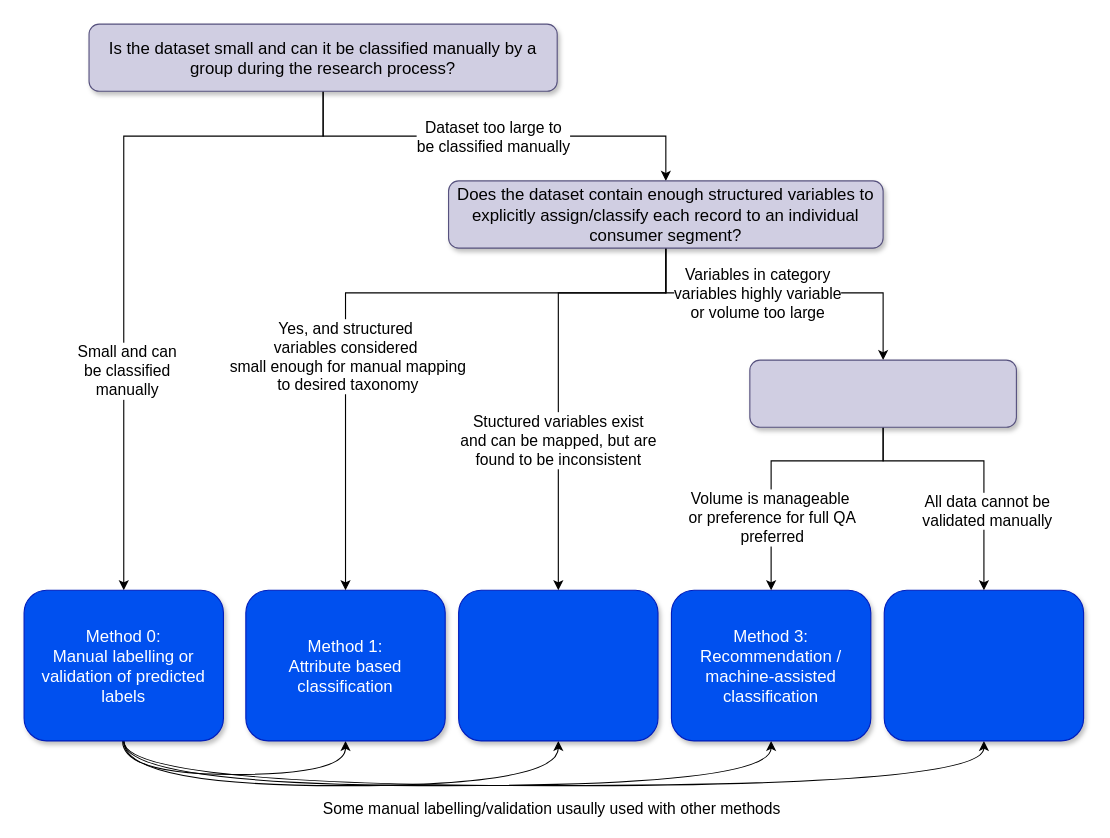
The diagram is 1110 pixels wide and 838 high, and some of its shapes have lost their labels. The shapes that lost their labels are listed below. From the top down, each one's centre as x and y in pixels, then its label:
At (x=883, y=394): "Is volume excessive to validate each unique record manually?".
At (x=559, y=667): "Method 2: Pattern matching classification".
At (x=984, y=667): "Method 4: Machine Learning based method for full classification".
